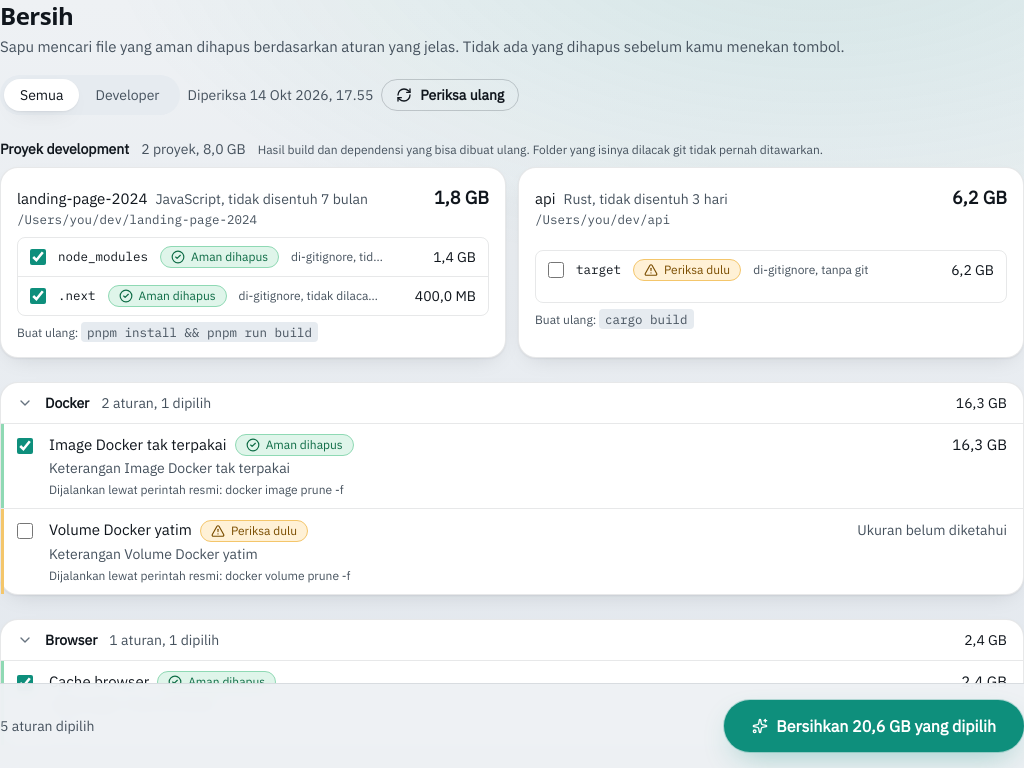
CleanView projects › lists development projects, pre-selects green artefacts and sends them on clean
Expected: the text "landing-page-2024" is shown, [17,188,147,208]
Expected: the text "JavaScript, tidak disentuh 7 bulan" is shown, [155,190,368,208]
Click the button "Bersihkan 20,6 GB yang dipilih" at {"x": 874, "y": 726}, box [724,700,1023,752]
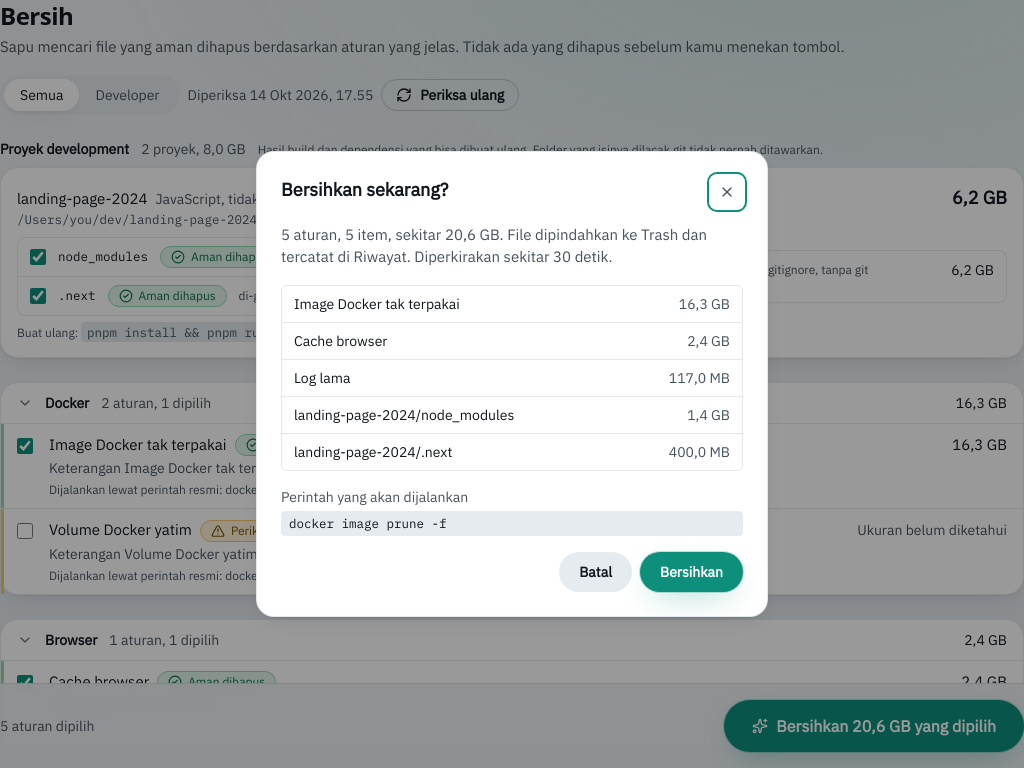
Expected: the text "landing-page-2024/node_modules" is shown, [294,405,514,425]
Click the button "Bersihkan" at {"x": 692, "y": 572}, box [640,552,743,592]
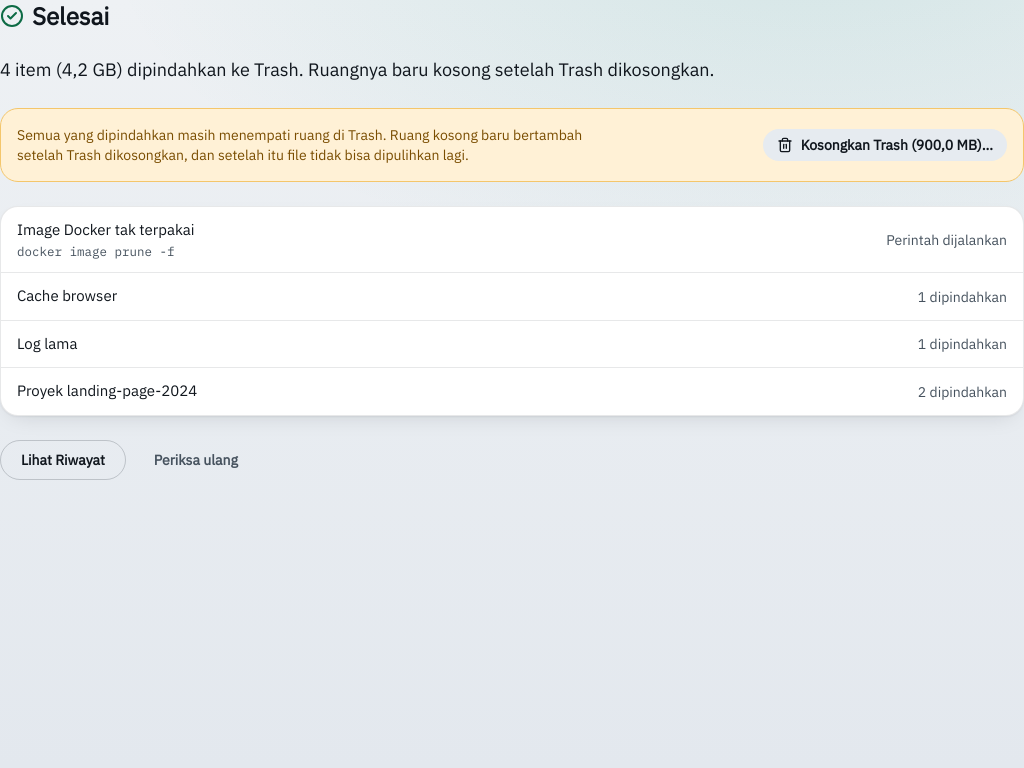
Expected: the heading "Selesai" is shown, [0,0,109,32]
Expected: the text "Proyek landing-page-2024" is shown, [17,380,197,403]
